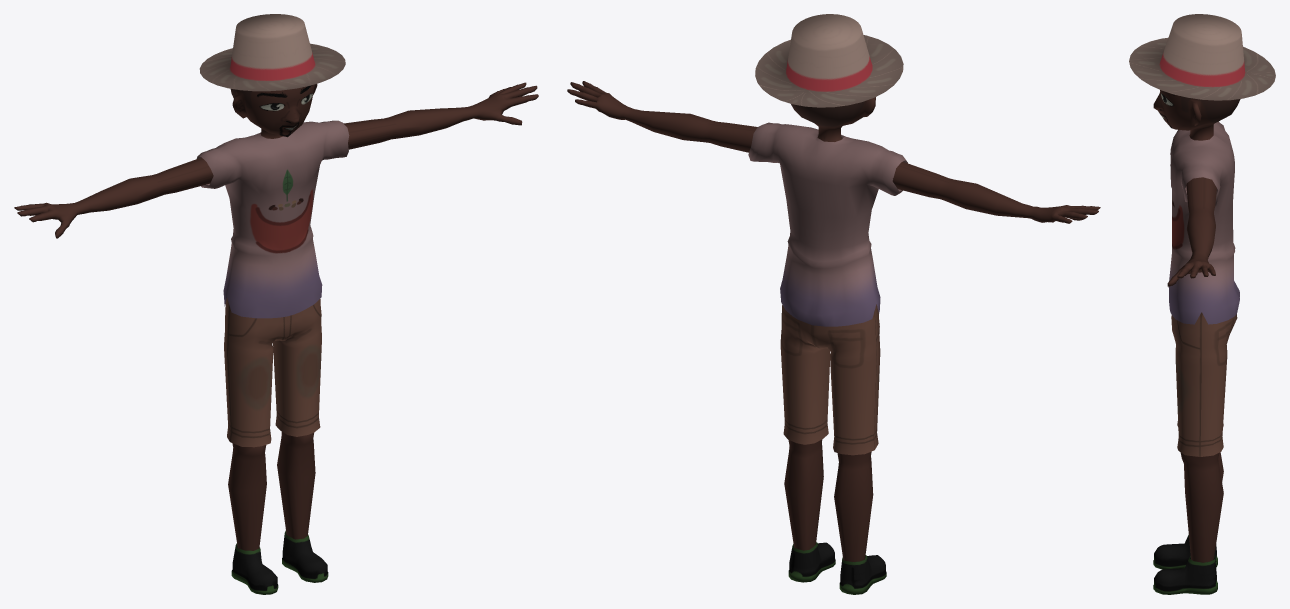
The model's file is model_VendedorDeSementes_01.fbx.
3 renders of one model, left to right at view 1: azimuth 30°, elevation 25°; view 2: azimuth 150°, elevation 25°; view 3: azimuth 270°, elevation 25°, orthographic.
Parts seen in each view (by area): view 1: camisa.004, calça.001, Mesh sem membro.003, Circle, Mesh.001, Mesh sem membro.002, tênis.002; view 2: camisa.004, calça.001, Circle, Mesh sem membro.003, Mesh.001, tênis.002, Mesh sem membro.002; view 3: camisa.004, Circle, calça.001, Mesh.001, tênis.002, Mesh sem membro.003, Mesh sem membro.002.
Boxes of the visible parts, bbox=[...] form: camisa.004: bbox=[196, 120, 349, 318]; calça.001: bbox=[224, 298, 321, 447]; Mesh sem membro.003: bbox=[14, 82, 538, 238]; Circle: bbox=[199, 14, 345, 91]; Mesh.001: bbox=[228, 432, 315, 550]; Mesh sem membro.002: bbox=[230, 84, 317, 138]; tênis.002: bbox=[231, 530, 328, 594]; camisa.004: bbox=[748, 122, 907, 326]; calça.001: bbox=[780, 304, 880, 455]; Circle: bbox=[755, 14, 903, 107]; Mesh sem membro.003: bbox=[567, 81, 1100, 223]; Mesh.001: bbox=[784, 439, 873, 561]; tênis.002: bbox=[788, 542, 886, 594]; Mesh sem membro.002: bbox=[791, 97, 875, 141]; camisa.004: bbox=[1168, 121, 1239, 324]; Circle: bbox=[1129, 14, 1275, 100]; calça.001: bbox=[1171, 312, 1237, 456]; Mesh.001: bbox=[1180, 452, 1223, 562]; tênis.002: bbox=[1153, 535, 1217, 594]; Mesh sem membro.003: bbox=[1167, 177, 1216, 286]; Mesh sem membro.002: bbox=[1153, 90, 1240, 140].
Size of the model in its own units: 915 by 921 by 222.
